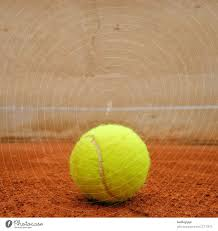tennis_ball: (69, 123, 151, 204)
